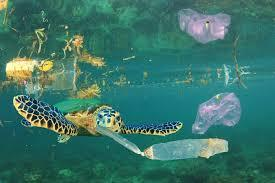Trash: (189, 89, 254, 145)
